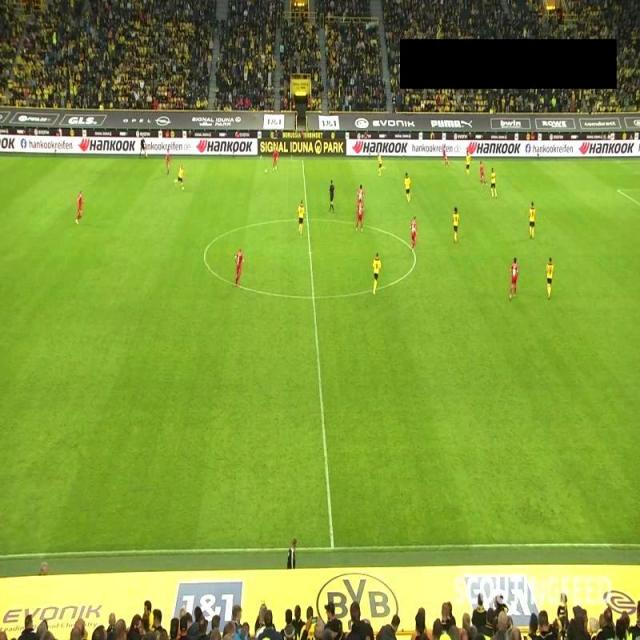bigarea_top_inner: (613, 184, 624, 196)
halfcircle_bottom: (307, 290, 320, 304)
halfcircle_top: (302, 213, 313, 226)
midline_bottom_intersection: (326, 539, 340, 556)
midline_top_intersection: (298, 154, 308, 165)
